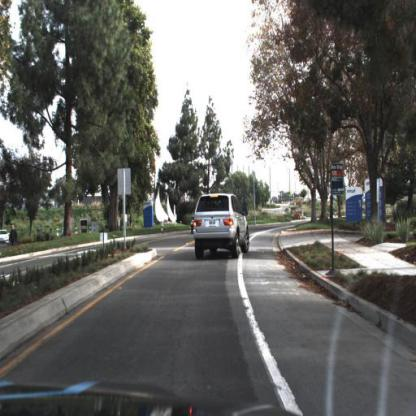car: (191, 198, 254, 264)
pedestrian: (9, 223, 19, 251)
